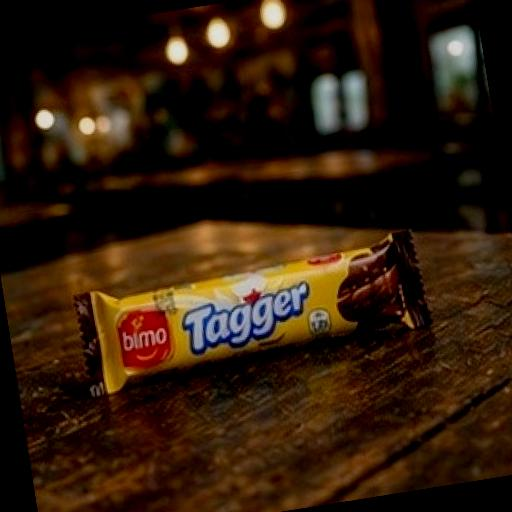tagger: (8, 152, 482, 512)
